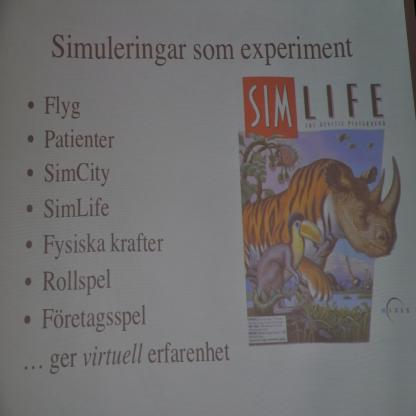book: (2, 0, 414, 416)
